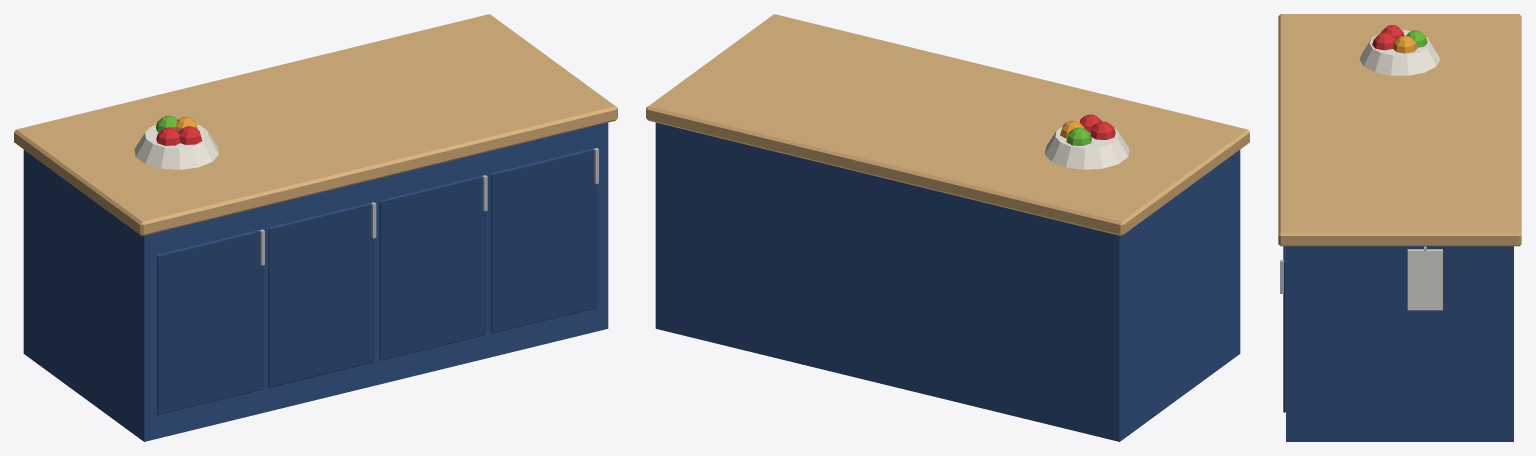
File: kitchen_island.fbx
The picture shows the model from 3 angles, left to right: view 1: azimuth 30°, elevation 25°; view 2: azimuth 150°, elevation 25°; view 3: azimuth 270°, elevation 25°; orthographic projection. The views are drawn at different scales.
Parts seen in each view (by area): view 1: kitchen_island; view 2: kitchen_island; view 3: kitchen_island.
Boxes of the visible parts, x1,y1,x2,y2 form: kitchen_island: [14, 14, 617, 441]; kitchen_island: [646, 14, 1249, 441]; kitchen_island: [1278, 14, 1521, 441].
Bounding box in the file's own units: 2.06 × 1.04 × 0.96.
